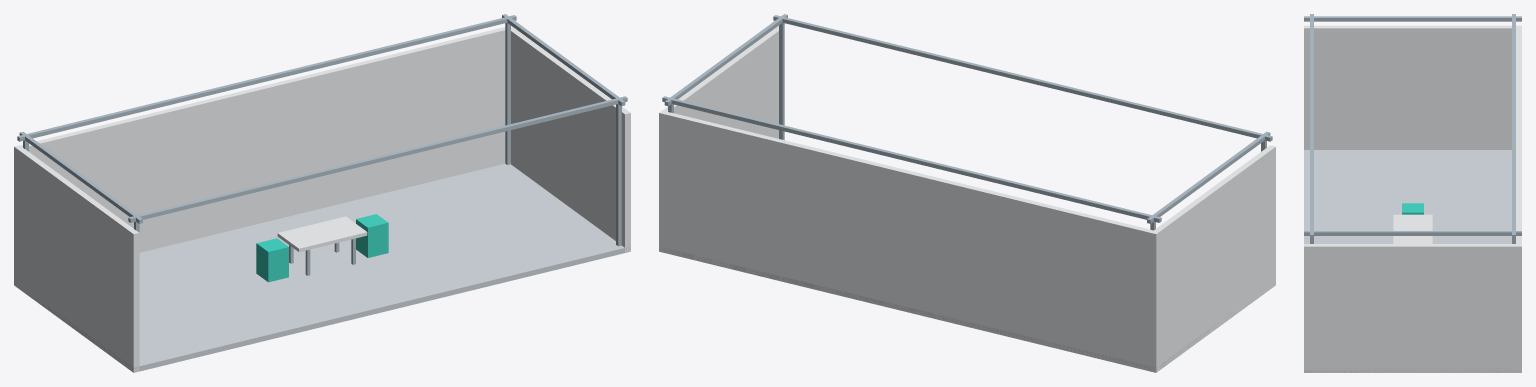
3 views of the same model, side by side, from view 1: azimuth 30°, elevation 25°; view 2: azimuth 150°, elevation 25°; view 3: azimuth 270°, elevation 25° (orthographic). The views are drawn at different scales.
Visible parts, largest first — view 1: Exhibition Booth Concept; view 2: Exhibition Booth Concept; view 3: Exhibition Booth Concept.
Part boxes in pixels (bbox=[...]): Exhibition Booth Concept: bbox=[14, 14, 630, 372]; Exhibition Booth Concept: bbox=[659, 14, 1275, 372]; Exhibition Booth Concept: bbox=[1304, 14, 1521, 372].
Size of the model in its own units: 12 by 3.49 by 5.
